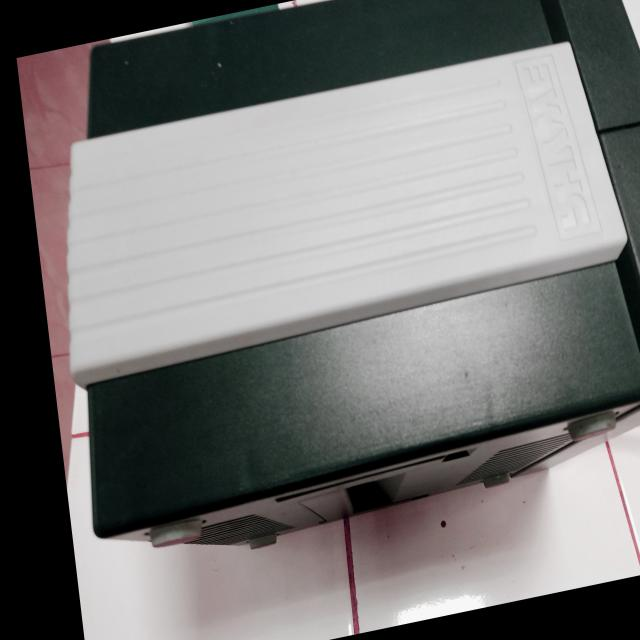Teslameter PS: (29, 0, 640, 614)
